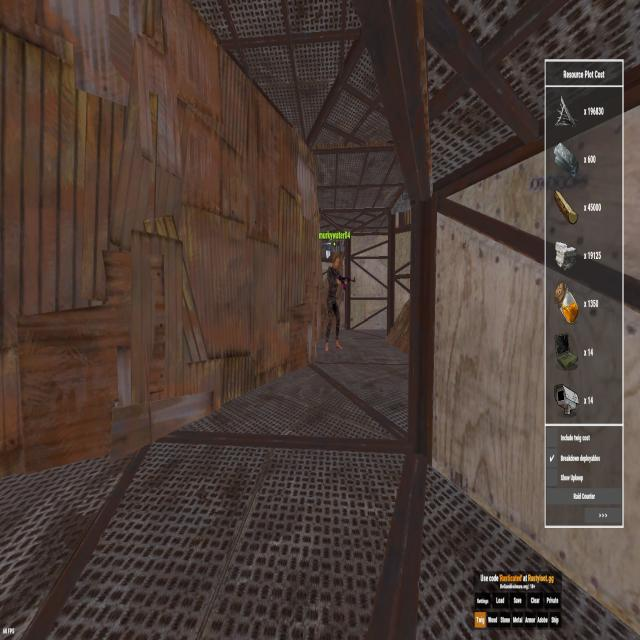Player: (324, 248, 346, 355)
